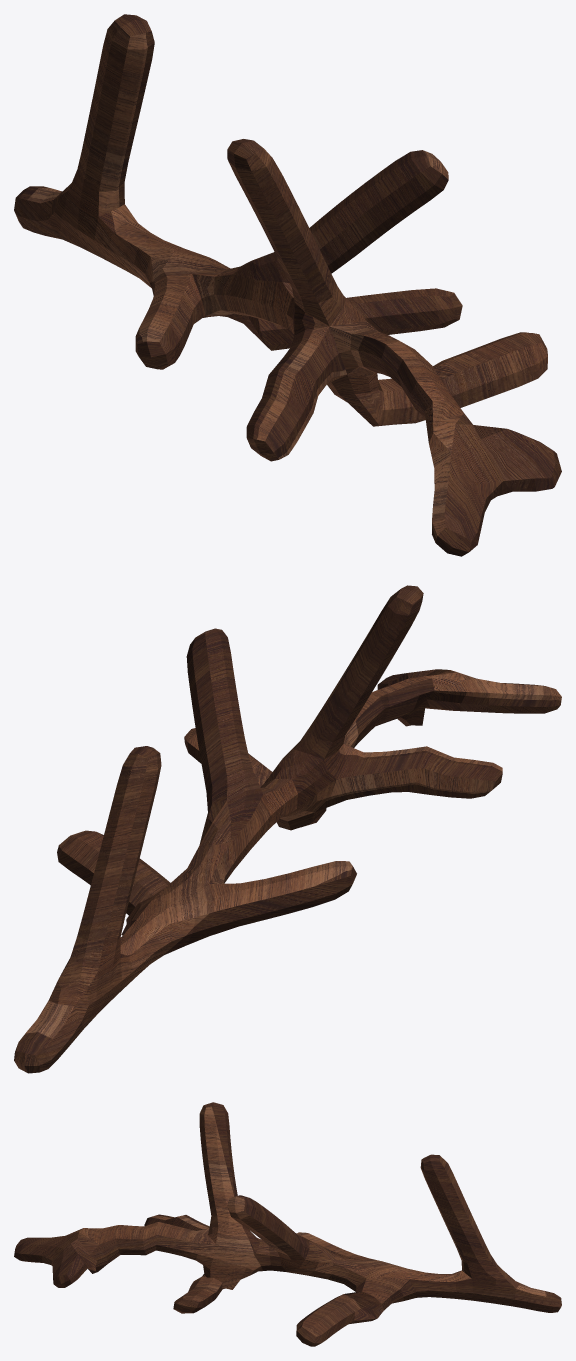
Rendered from SimpleTreeFallen.fbx.
3 views of the same model, one above another, from view 1: azimuth 30°, elevation 25°; view 2: azimuth 150°, elevation 25°; view 3: azimuth 270°, elevation 25° (orthographic). The views are drawn at different scales.
Visible parts, largest first — view 1: Cube.002; view 2: Cube.002; view 3: Cube.002.
Part boxes in pixels (x1,y1,x2,y2): Cube.002: (14, 14, 561, 556); Cube.002: (14, 585, 561, 1073); Cube.002: (14, 1102, 561, 1346).
Size of the model in its own units: 302 by 278 by 761.
